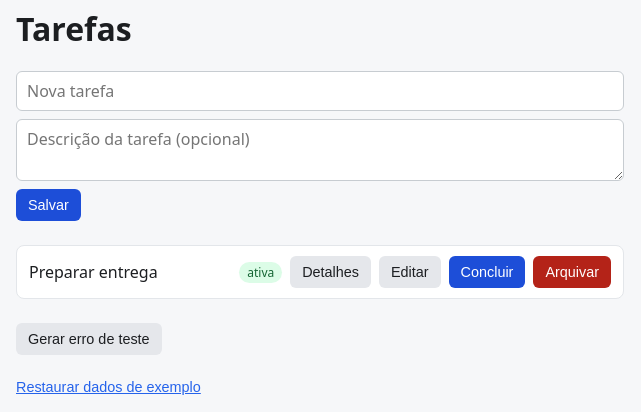
Scenario: Page › conclui e reabre uma tarefa preservando seus dados e estado salvo
Later steps or results of the test are not shown.
Click the button "Concluir": x=487, y=272 [449,256,525,288]
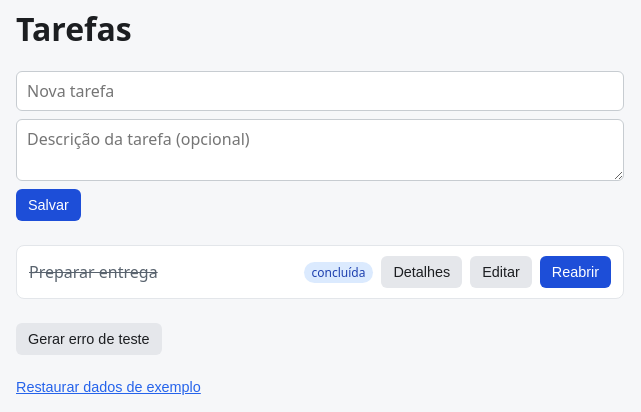
Expected: the text "concluída" is shown, [304,262,373,283]
Expected: the button "Reabrir" is shown, [540,256,611,288]
Expected: the button "Arquivar" is gone
